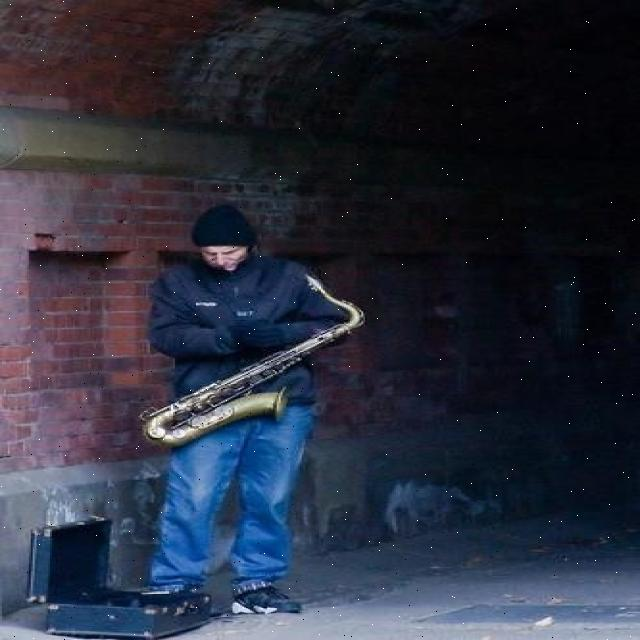saxophone: (138, 272, 372, 456)
